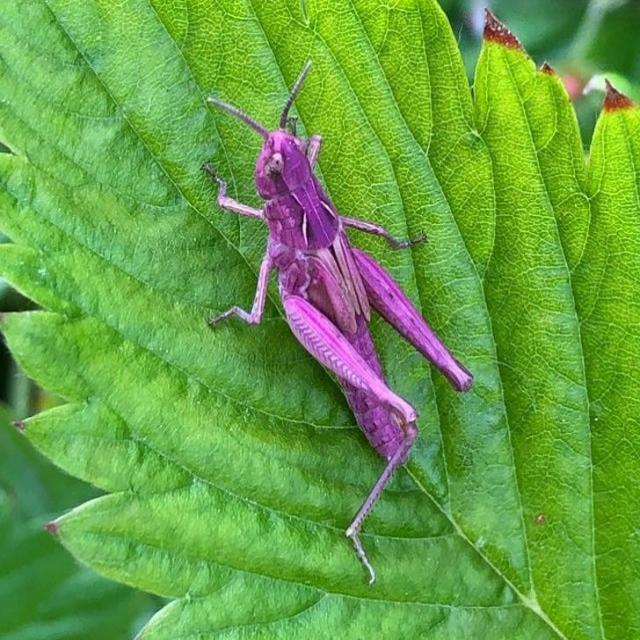ZhaMeng: (210, 72, 468, 528)
